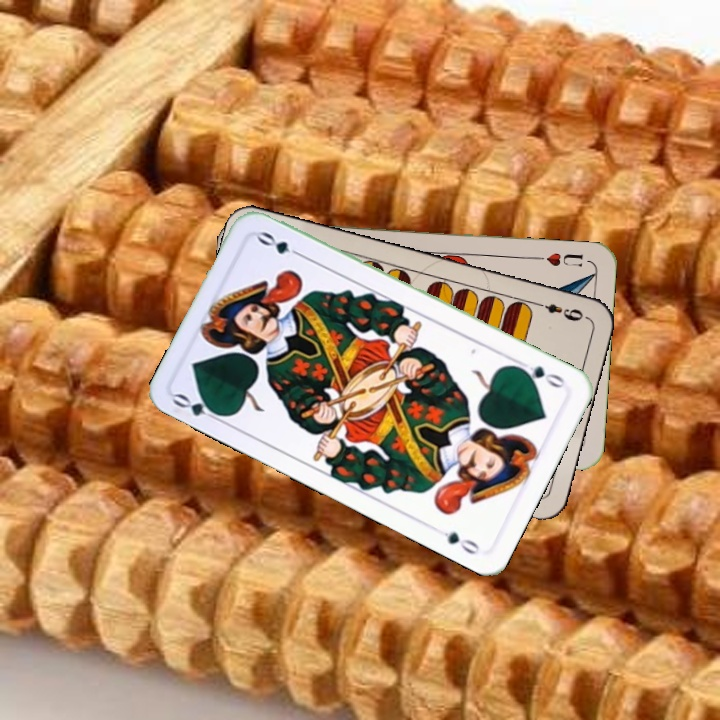E9: (531, 298, 586, 324)
GO: (169, 389, 227, 426), (512, 356, 567, 391)
HU: (532, 248, 586, 269)
